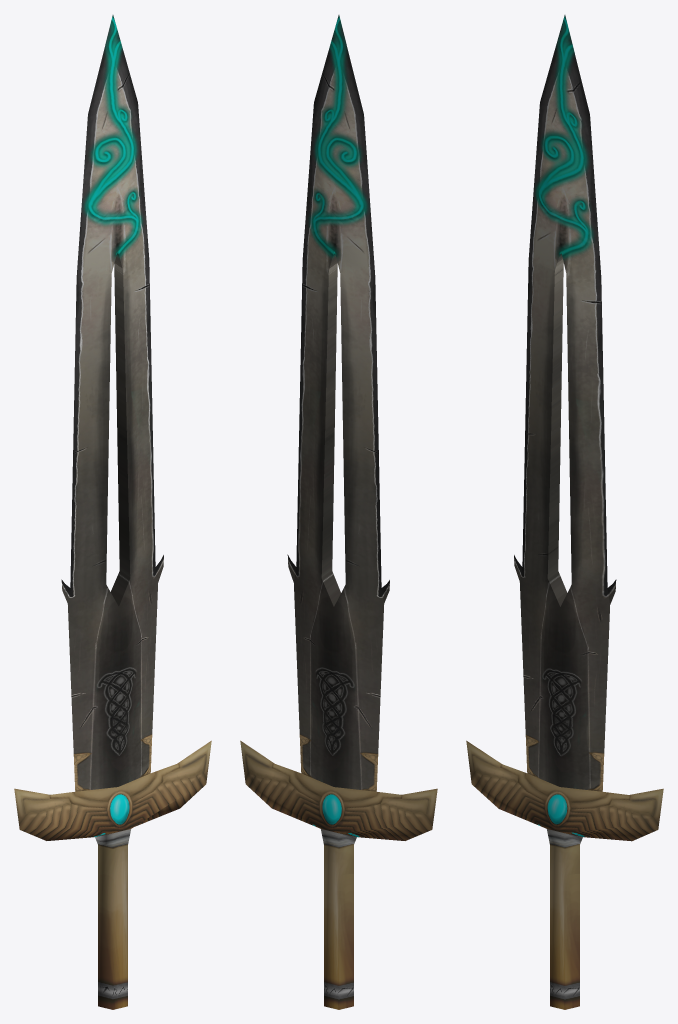
Rendered from Sword_Of_Fate.fbx.
3 views of the same model, side by side, from view 1: azimuth 30°, elevation 25°; view 2: azimuth 150°, elevation 25°; view 3: azimuth 330°, elevation 25° (orthographic).
Parts seen in each view (by area): view 1: Cylinder_1; view 2: Cylinder_1; view 3: Cylinder_1.
Part boxes in pixels (left/top/right/bottom): Cylinder_1: left=14, top=15, right=211, bottom=1009; Cylinder_1: left=240, top=15, right=437, bottom=1009; Cylinder_1: left=466, top=15, right=663, bottom=1009.
Bounding box in the file's own units: 275 × 1316 × 44.61.
1 material, 1 textured.
